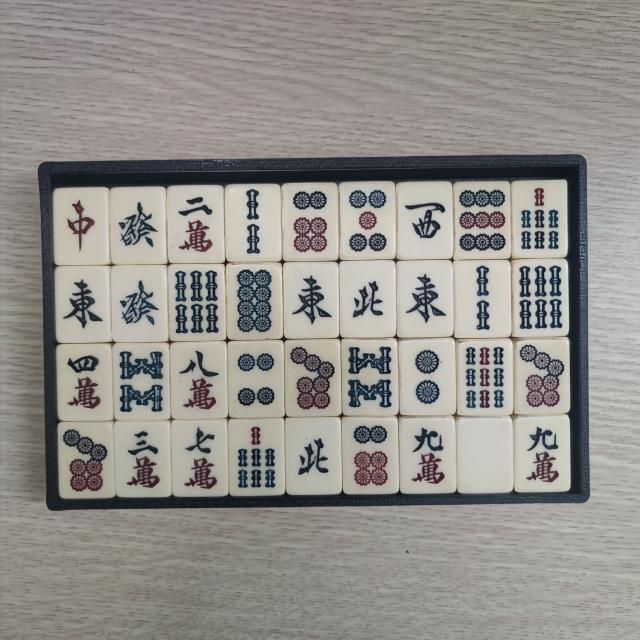hdg: (116, 268, 164, 338), (115, 190, 162, 260)
hdr: (60, 192, 103, 260)
hdw: (464, 422, 508, 488)
hwe: (288, 266, 336, 334), (59, 272, 106, 339), (402, 266, 449, 332)
hwn: (290, 421, 336, 488), (346, 267, 390, 332)
hww: (402, 188, 449, 254)
sb2: (230, 186, 278, 257), (461, 264, 508, 334)
sb6: (174, 268, 222, 337), (519, 262, 566, 330)
sb7: (233, 424, 280, 493), (516, 185, 562, 252)
sb8: (344, 342, 394, 411), (118, 349, 166, 418)
sb9: (462, 345, 508, 413)
sc2: (174, 191, 222, 259)
sc3: (120, 426, 167, 492)
sc4: (62, 348, 107, 414)
sc7: (178, 425, 224, 494)
sc8: (176, 346, 223, 414)
sc9: (519, 422, 565, 488), (406, 424, 452, 490)
sd2: (404, 343, 450, 411)
sd4: (232, 347, 280, 415)
sd5: (344, 186, 391, 255)
sd6: (288, 188, 334, 257), (348, 423, 392, 490)
sd7: (289, 343, 338, 412), (62, 428, 110, 496), (519, 342, 567, 410)
sd8: (230, 267, 278, 335)
sd9: (458, 186, 508, 254)
